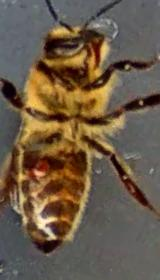varroa_mite: (28, 156, 62, 184)
